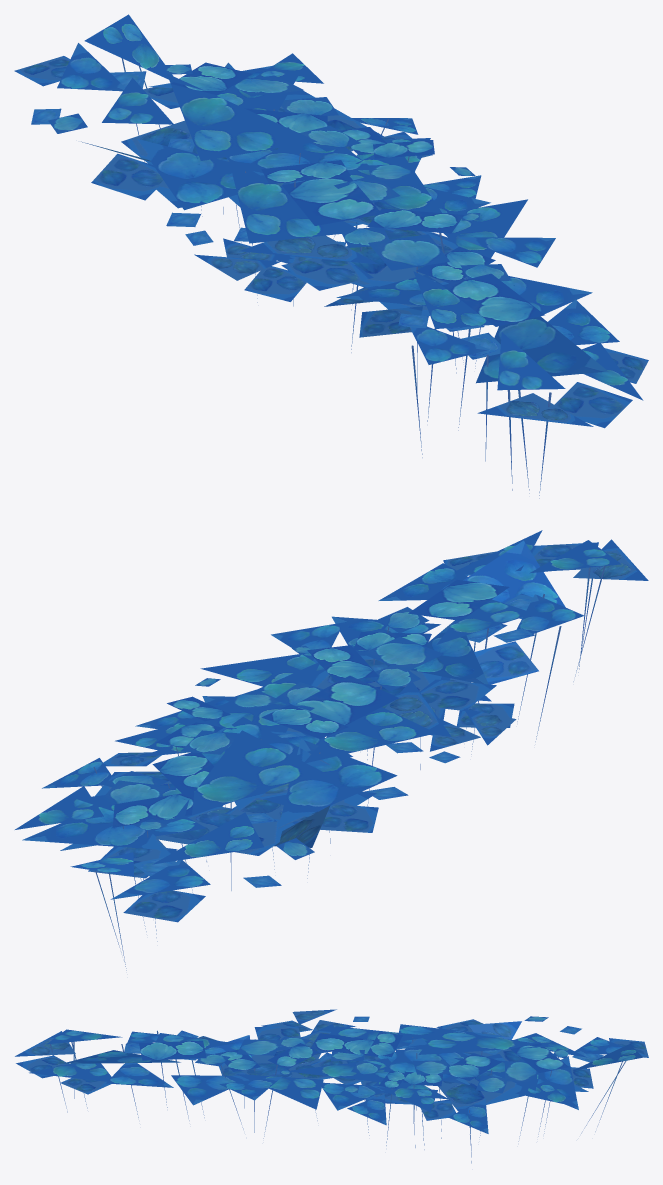
The model's file is Homeworld_Exterior_Xm_Plant_Grass_HuaHai_01_Lod0.fbx.
The picture shows the model from 3 angles, top to bottom: view 1: azimuth 30°, elevation 25°; view 2: azimuth 150°, elevation 25°; view 3: azimuth 270°, elevation 25°; orthographic projection. The views are drawn at different scales.
Visible parts, largest first — view 1: Area_Xm_Grass_CSDS_LanCao_01_Lod0; view 2: Area_Xm_Grass_CSDS_LanCao_01_Lod0; view 3: Area_Xm_Grass_CSDS_LanCao_01_Lod0.
Part boxes in pixels (box(x1,y1,x2,y2)): Area_Xm_Grass_CSDS_LanCao_01_Lod0: box(14, 14, 648, 498); Area_Xm_Grass_CSDS_LanCao_01_Lod0: box(15, 530, 648, 970); Area_Xm_Grass_CSDS_LanCao_01_Lod0: box(15, 1009, 648, 1163).
Size of the model in its own units: 3.89 by 1.81 by 10.24.
Materials: 1 (1 with a texture image).
